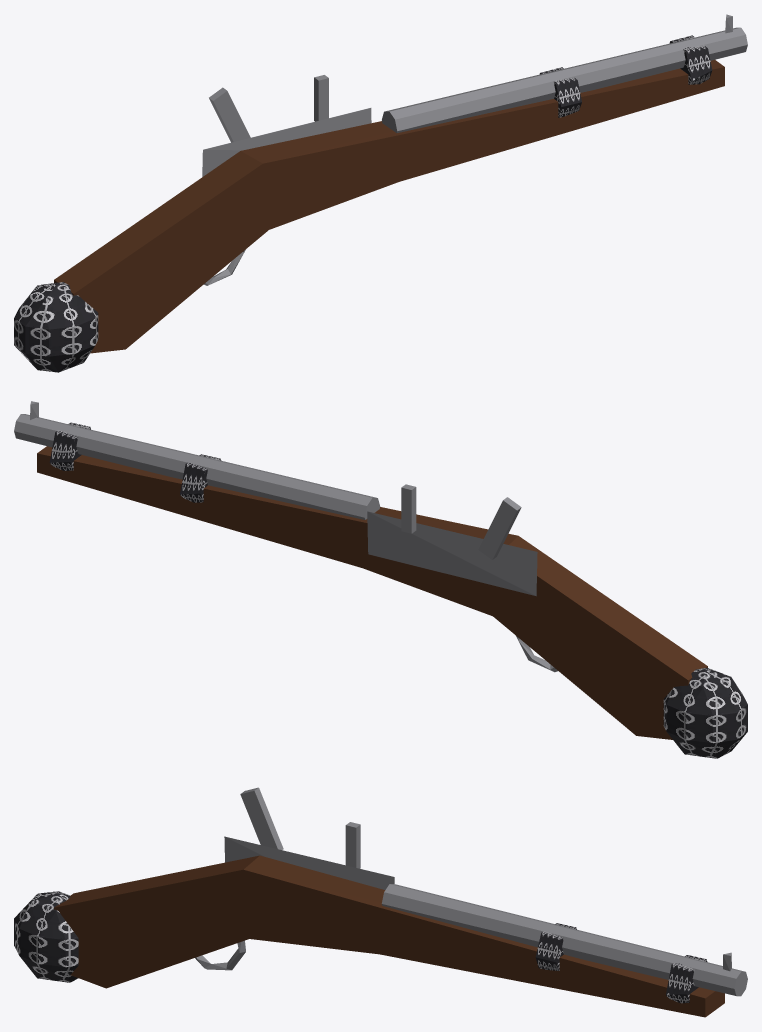
The model's file is flintlock_pistol_lod1.glb.
The picture shows the model from 3 angles, top to bottom: view 1: azimuth 30°, elevation 25°; view 2: azimuth 150°, elevation 25°; view 3: azimuth 330°, elevation 25°; orthographic projection.
Visible parts, largest first — view 1: m; view 2: m; view 3: m.
Part boxes in pixels (x1,y1,x2,y2): m: (14,14,747,372); m: (14,401,747,758); m: (14,787,747,1017).
Bounding box in the file's own units: 0.5539 × 0.1649 × 0.0487.
3 materials, 2 textured.
